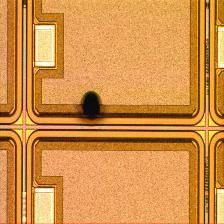PO CONTAMINATION: (68, 84, 116, 132)
